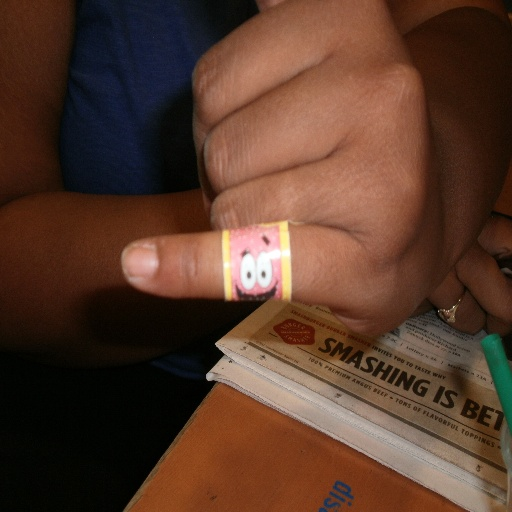hand: (123, 0, 441, 337), (428, 153, 511, 339)
